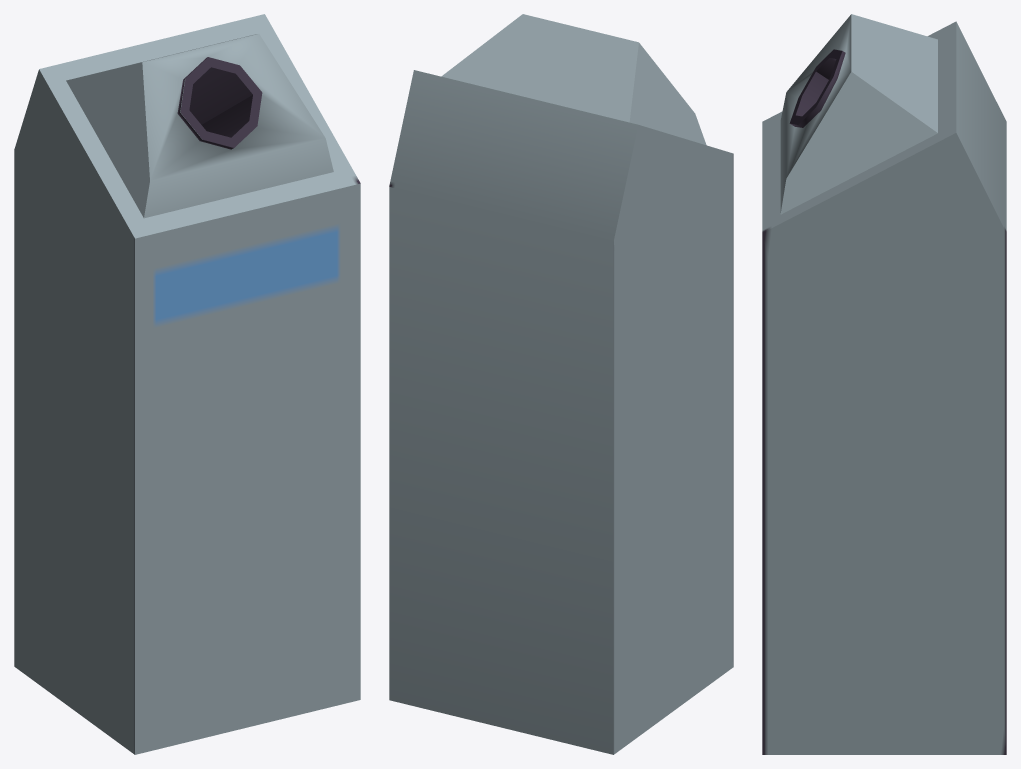
Rendered from trashcan.fbx.
The picture shows the model from 3 angles, left to right: view 1: azimuth 30°, elevation 25°; view 2: azimuth 150°, elevation 25°; view 3: azimuth 270°, elevation 25°; orthographic projection.
Parts seen in each view (by area): view 1: Trashcan; view 2: Trashcan; view 3: Trashcan.
Boxes of the visible parts, x1,y1,x2,y2 form: Trashcan: (14,14,360,754); Trashcan: (389,14,733,754); Trashcan: (762,14,1006,754).
Bounding box in the file's own units: 39.7 × 109 × 36.8.
